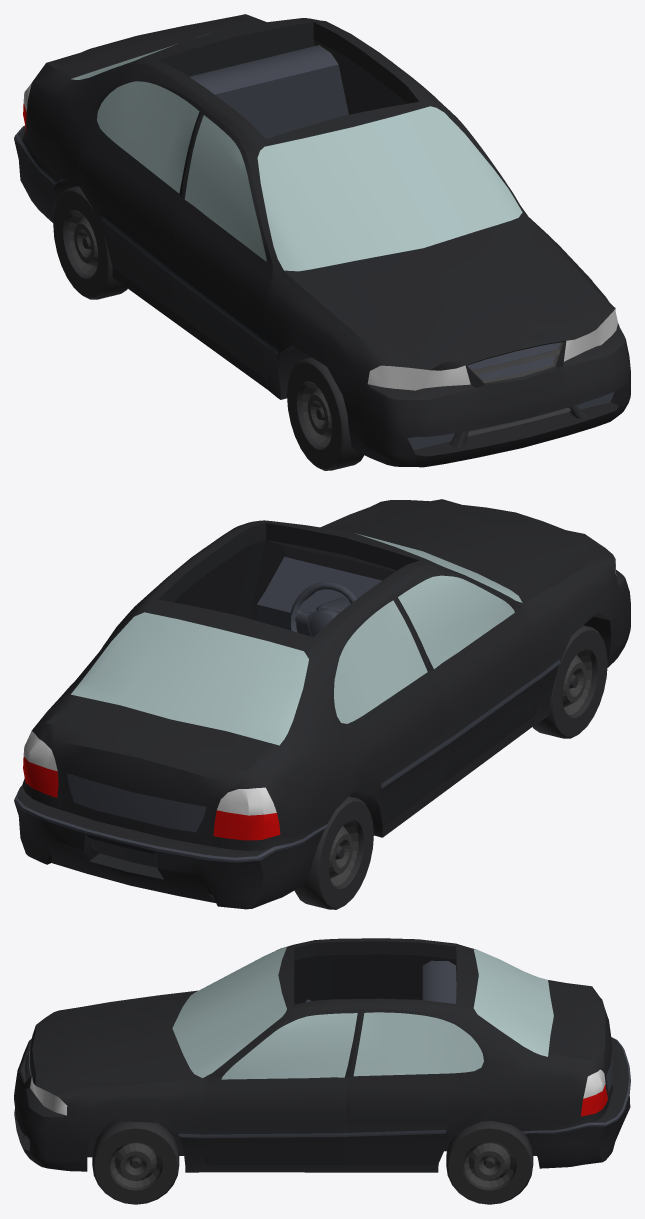
Rendered from Car_01_DaewooNexia.fbx.
3 views of the same model, one above another, from view 1: azimuth 30°, elevation 25°; view 2: azimuth 150°, elevation 25°; view 3: azimuth 270°, elevation 25° (orthographic). The views are drawn at different scales.
Parts seen in each view (by area): view 1: Car_01_DaewooNexia, Car_01; view 2: Car_01_DaewooNexia, Car_01; view 3: Car_01_DaewooNexia, Car_01.
Part boxes in pixels (x1,y1,x2,y2): Car_01_DaewooNexia: (14,14,630,467); Car_01: (53,186,364,470); Car_01_DaewooNexia: (14,499,630,909); Car_01: (294,625,607,909); Car_01_DaewooNexia: (14,938,630,1172); Car_01: (92,1121,533,1204).
Bounding box in the file's own units: 7.31 × 6.04 × 18.1.
